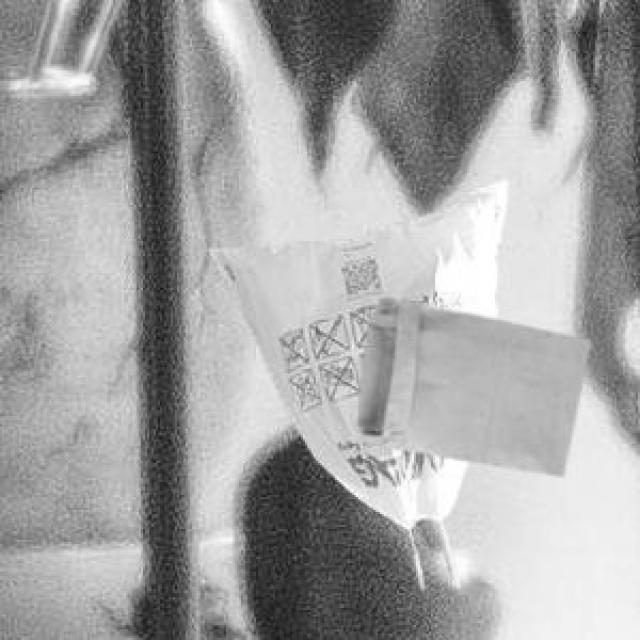paper: (354, 294, 587, 472)
